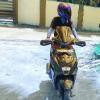motorcycles: (45, 31, 78, 97)
